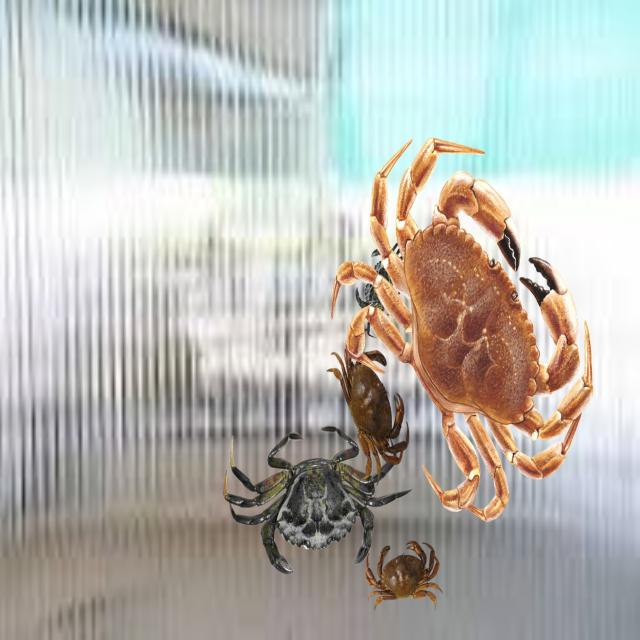European_Green_Crab: (220, 417, 416, 580), (341, 217, 425, 350)
